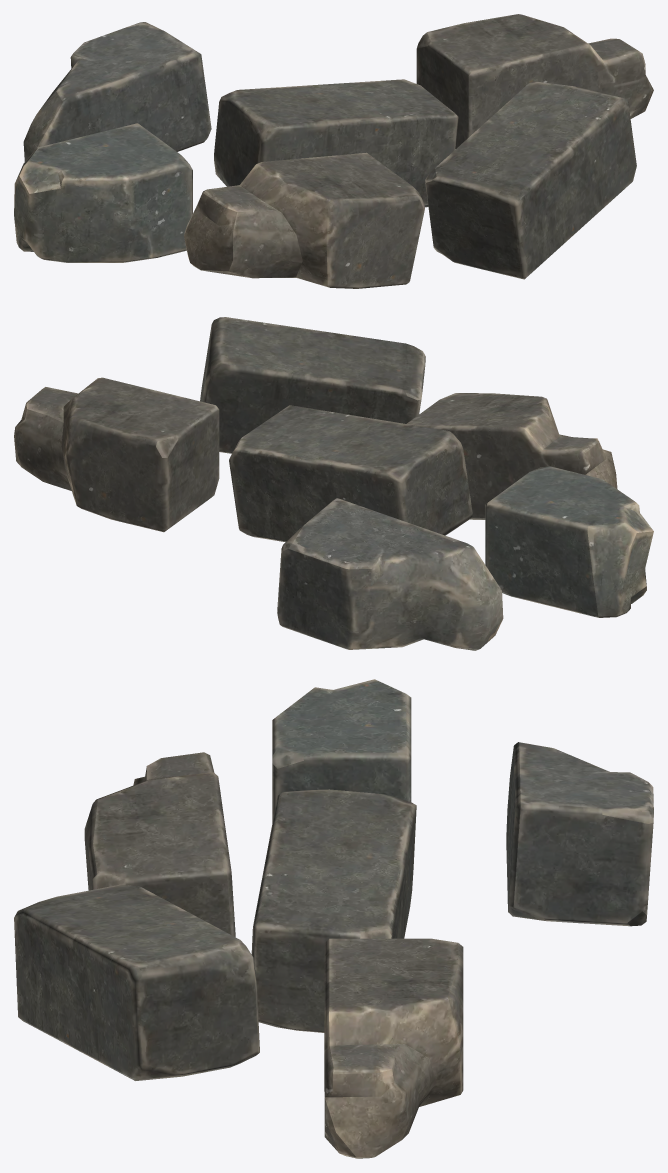
The picture shows the model from 3 angles, top to bottom: view 1: azimuth 30°, elevation 25°; view 2: azimuth 150°, elevation 25°; view 3: azimuth 270°, elevation 25°; orthographic projection. The views are drawn at different scales.
Visible parts, largest first — view 1: SM_SaradominTemple_BrickCluster_02_LOD0; view 2: SM_SaradominTemple_BrickCluster_02_LOD0; view 3: SM_SaradominTemple_BrickCluster_02_LOD0.
Boxes of the visible parts, <box> form: SM_SaradominTemple_BrickCluster_02_LOD0: <box>14,14,653,288</box>; SM_SaradominTemple_BrickCluster_02_LOD0: <box>14,317,653,650</box>; SM_SaradominTemple_BrickCluster_02_LOD0: <box>14,679,653,1158</box>.
Size of the model in its own units: 4.02 by 0.7481 by 2.86.
Materials: 1 (1 with a texture image).
